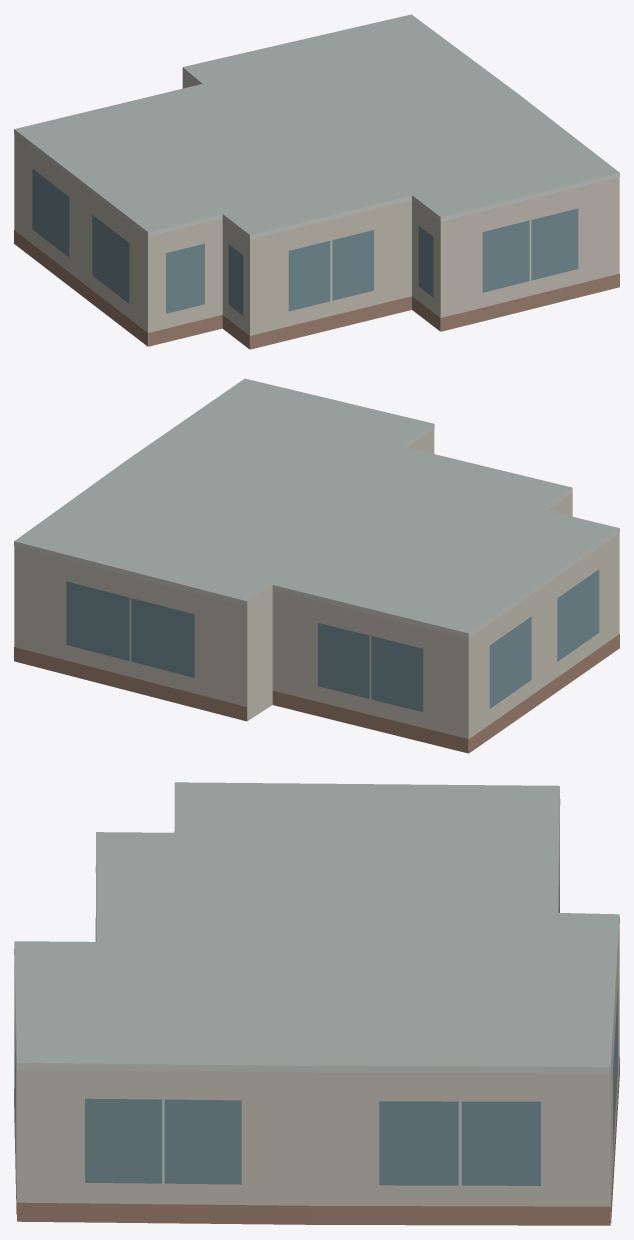
File: survey-upis-32768002.glb
The picture shows the model from 3 angles, top to bottom: view 1: azimuth 30°, elevation 25°; view 2: azimuth 150°, elevation 25°; view 3: azimuth 270°, elevation 25°; orthographic projection. The views are drawn at different scales.
Parts seen in each view (by area): view 1: survey-upis-32768002.tmp; view 2: survey-upis-32768002.tmp; view 3: survey-upis-32768002.tmp.
Part boxes in pixels (x1=…): survey-upis-32768002.tmp: x1=14, y1=14, x2=619, y2=349; survey-upis-32768002.tmp: x1=14, y1=378, x2=619, y2=753; survey-upis-32768002.tmp: x1=14, y1=782, x2=619, y2=1225.
Bounding box in the file's own units: 11.73 × 3.05 × 10.55.
